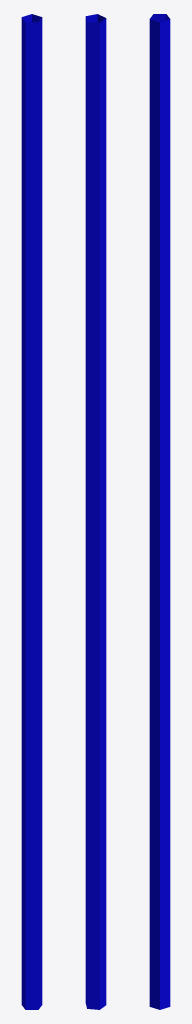
File: trajectory-2.gltf
The picture shows the model from 3 angles, left to right: view 1: azimuth 90°, elevation 25°; view 2: azimuth 150°, elevation 25°; view 3: azimuth 270°, elevation 25°; orthographic projection.
Size of the model in its own units: 0.1809 by 9.9 by 0.1902.
